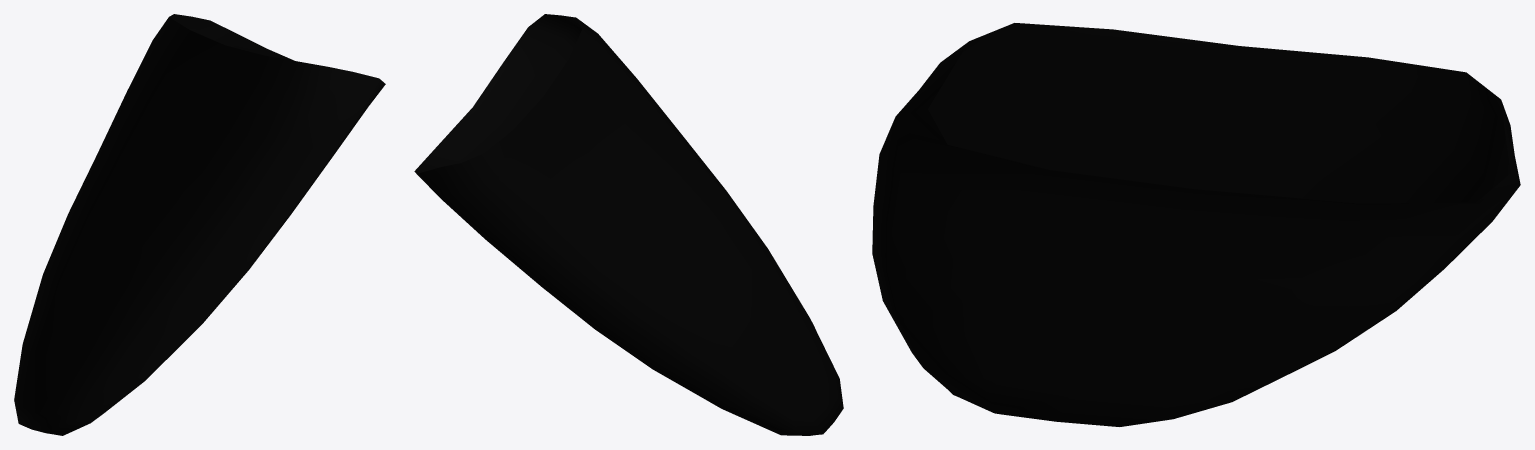
The model's file is brazo_d.obj.
3 views of the same model, side by side, from view 1: azimuth 30°, elevation 25°; view 2: azimuth 150°, elevation 25°; view 3: azimuth 270°, elevation 25° (orthographic). The views are drawn at different scales.
Parts seen in each view (by area): view 1: rarm; view 2: rarm; view 3: rarm.
Boxes of the visible parts, box(x1,y1,x2,y2) form: rarm: box(14, 14, 385, 435); rarm: box(414, 14, 843, 435); rarm: box(872, 23, 1520, 426).
Bounding box in the file's own units: 3.7 × 3.46 × 3.17.
